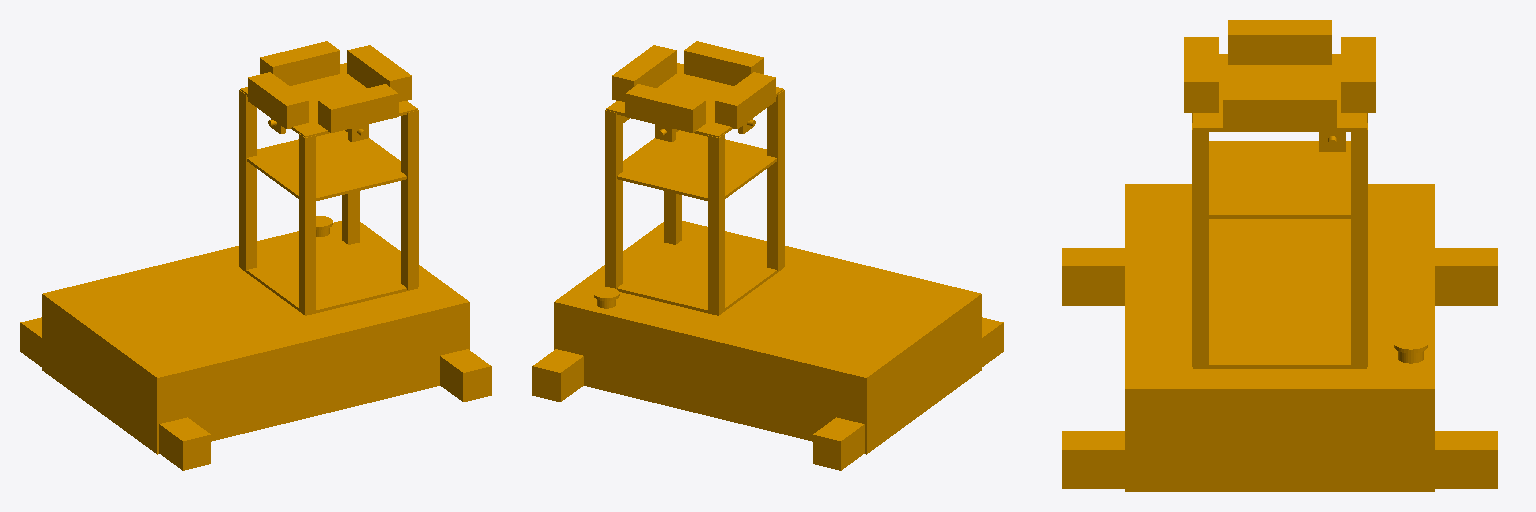
The robot description file, URDF, robot "coro_allie_sensor_config_1":
<?xml version="1.0" ?>
<robot name="coro_allie_sensor_config_1">
  <joint name="coro_allie_sensor_config_1__front_left_wheel_joint" type="revolute">
    <parent link="coro_allie_sensor_config_1__base_link"/>
    <child link="coro_allie_sensor_config_1__front_left_wheel"/>
    <origin rpy="0 0 0" xyz="0.25   0.255  0.1275"/>
    <axis xyz="0 1 0"/>
    <limit effort="53.5" lower="-1.79769e+308" upper="1.79769e+308" velocity="13.65"/>
  </joint>
  <joint name="coro_allie_sensor_config_1__rear_left_wheel_joint" type="revolute">
    <parent link="coro_allie_sensor_config_1__base_link"/>
    <child link="coro_allie_sensor_config_1__rear_left_wheel"/>
    <origin rpy="0 0 0" xyz="-0.25    0.255   0.1275"/>
    <axis xyz="0 1 0"/>
    <limit effort="53.5" lower="-1.79769e+308" upper="1.79769e+308" velocity="13.65"/>
  </joint>
  <joint name="coro_allie_sensor_config_1__rear_right_wheel_joint" type="revolute">
    <parent link="coro_allie_sensor_config_1__base_link"/>
    <child link="coro_allie_sensor_config_1__rear_right_wheel"/>
    <origin rpy="0 0 0" xyz="-0.25   -0.255   0.1275"/>
    <axis xyz="0 1 0"/>
    <limit effort="53.5" lower="-1.79769e+308" upper="1.79769e+308" velocity="13.65"/>
  </joint>
  <joint name="coro_allie_sensor_config_1__front_right_wheel_joint" type="revolute">
    <parent link="coro_allie_sensor_config_1__base_link"/>
    <child link="coro_allie_sensor_config_1__front_right_wheel"/>
    <origin rpy="0 0 0" xyz="0.25   -0.255   0.1275"/>
    <axis xyz="0 1 0"/>
    <limit effort="53.5" lower="-1.79769e+308" upper="1.79769e+308" velocity="13.65"/>
  </joint>
  <link name="coro_allie_sensor_config_1__base_link">
    <inertial>
      <mass value="9.6"/>
      <origin rpy="0 0 0" xyz="0      0      0.07249"/>
      <inertia ixx="0.0512" ixy="0" ixz="0" iyy="0.07712" iyz="0" izz="0.11808"/>
    </inertial>
    <collision name="coro_allie_sensor_config_1__chassis_collision">
      <origin rpy="0 0 0" xyz="0     0     0.1675"/>
      <geometry>
        <box size="0.555 0.355 0.13"/>
      </geometry>
    </collision>
    <visual name="coro_allie_sensor_config_1__chassis_main_visual">
      <origin rpy="0 0 0" xyz="0     0     0.1775"/>
      <geometry>
        <box size="0.555 0.355 0.13"/>
      </geometry>
    </visual>
    <visual name="coro_allie_sensor_config_1__emergency_stop_bottom_visual">
      <origin rpy="0 0 0" xyz="0.2    0.15   0.2525"/>
      <geometry>
        <cylinder length="0.015" radius="0.015"/>
      </geometry>
    </visual>
    <visual name="coro_allie_sensor_config_1__emergency_stop_top_visual">
      <origin rpy="0 0 0" xyz="0.2    0.15   0.2625"/>
      <geometry>
        <cylinder length="0.005" radius="0.02"/>
      </geometry>
    </visual>
    <visual name="coro_allie_sensor_config_1__wheel_mount_front_visual">
      <origin rpy="0 0 0" xyz="0.249  0     0.1385"/>
      <geometry>
        <box size="0.05 0.5 0.05"/>
      </geometry>
    </visual>
    <visual name="coro_allie_sensor_config_1__wheel_mount_rear_visual">
      <origin rpy="0 0 0" xyz="-0.249   0      0.1385"/>
      <geometry>
        <box size="0.05 0.5 0.05"/>
      </geometry>
    </visual>
    <visual name="coro_allie_sensor_config_1__plate1_visual">
      <origin rpy="0 0 0" xyz="0.13   0     0.5475"/>
      <geometry>
        <box size="0.2 0.2 0.005"/>
      </geometry>
    </visual>
    <visual name="coro_allie_sensor_config_1__plate2_visual">
      <origin rpy="0 0 0" xyz="0.13   0     0.4375"/>
      <geometry>
        <box size="0.2 0.2 0.005"/>
      </geometry>
    </visual>
    <visual name="coro_allie_sensor_config_1__plate3_visual">
      <origin rpy="0 0 0" xyz="0.13   0     0.2475"/>
      <geometry>
        <box size="0.2 0.2 0.005"/>
      </geometry>
    </visual>
    <visual name="coro_allie_sensor_config_1__beam1_visual">
      <origin rpy="0 0 0" xyz="0.221  0.091  0.3975"/>
      <geometry>
        <box size="0.02 0.02 0.3"/>
      </geometry>
    </visual>
    <visual name="coro_allie_sensor_config_1__beam2_visual">
      <origin rpy="0 0 0" xyz="0.221  -0.091   0.3975"/>
      <geometry>
        <box size="0.02 0.02 0.3"/>
      </geometry>
    </visual>
    <visual name="coro_allie_sensor_config_1__beam3_visual">
      <origin rpy="0 0 0" xyz="0.039  0.091  0.3975"/>
      <geometry>
        <box size="0.02 0.02 0.3"/>
      </geometry>
    </visual>
    <visual name="coro_allie_sensor_config_1__beam4_visual">
      <origin rpy="0 0 0" xyz="0.039  -0.091   0.3975"/>
      <geometry>
        <box size="0.02 0.02 0.3"/>
      </geometry>
    </visual>
    <visual name="coro_allie_sensor_config_1__d435i_realsense_camera_visual">
      <origin rpy="0      0.52359 0" xyz="0.19    0      0.52049"/>
      <geometry>
        <mesh filename="package://coro_allie_sensor_config_1/meshes/realsense_d435.dae" scale="0.001 0.001 0.001"/>
      </geometry>
    </visual>
    <visual name="coro_allie_sensor_config_1__vlp16_visual1">
      <origin rpy="0 0 0" xyz="0.13   0     0.4395"/>
      <geometry>
        <mesh filename="package://coro_allie_sensor_config_1/meshes/VLP16_base_1.dae" scale="1 1 1"/>
      </geometry>
    </visual>
    <visual name="coro_allie_sensor_config_1__vlp_visual2">
      <origin rpy="0 0 0" xyz="0.13   0     0.4395"/>
      <geometry>
        <mesh filename="package://coro_allie_sensor_config_1/meshes/VLP16_base_2.dae" scale="1 1 1"/>
      </geometry>
    </visual>
    <visual name="coro_allie_sensor_config_1__vlp_visual3">
      <origin rpy="0 0 0" xyz="0.13   0     0.4395"/>
      <geometry>
        <mesh filename="package://coro_allie_sensor_config_1/meshes/VLP16_scan.dae" scale="1 1 1"/>
      </geometry>
    </visual>
    <visual name="coro_allie_sensor_config_1__camera_front_visual">
      <origin rpy="0 0 0" xyz="0.22   0.06   0.5325"/>
      <geometry>
        <box size="0.01 0.03 0.03"/>
      </geometry>
    </visual>
    <visual name="coro_allie_sensor_config_1__camera_lens_front_visual">
      <origin rpy="0      1.57079 0" xyz="0.23   0.06   0.5325"/>
      <geometry>
        <cylinder length="0.011" radius="0.005"/>
      </geometry>
    </visual>
    <visual name="coro_allie_sensor_config_1__camera_rear_visual">
      <origin rpy="0 0 0" xyz="0.04   0     0.5325"/>
      <geometry>
        <box size="0.01 0.03 0.03"/>
      </geometry>
    </visual>
    <visual name="coro_allie_sensor_config_1__camera_lens_rear_visual">
      <origin rpy="0      1.57079 0" xyz="0.03   0     0.5325"/>
      <geometry>
        <cylinder length="0.011" radius="0.005"/>
      </geometry>
    </visual>
    <visual name="coro_allie_sensor_config_1__camera_left_visual">
      <origin rpy="0 0 0" xyz="0.13   0.09   0.5325"/>
      <geometry>
        <box size="0.03 0.01 0.03"/>
      </geometry>
    </visual>
    <visual name="coro_allie_sensor_config_1__camera_lens_left_visual">
      <origin rpy="1.57079 0      0" xyz="0.13   0.1    0.5325"/>
      <geometry>
        <cylinder length="0.011" radius="0.005"/>
      </geometry>
    </visual>
    <visual name="coro_allie_sensor_config_1__camera_right_visual">
      <origin rpy="0 0 0" xyz="0.13   -0.09    0.5325"/>
      <geometry>
        <box size="0.03 0.01 0.03"/>
      </geometry>
    </visual>
    <visual name="coro_allie_sensor_config_1__camera_lens_right_visual">
      <origin rpy="1.57079 0      0" xyz="0.13   -0.1     0.5325"/>
      <geometry>
        <cylinder length="0.011" radius="0.005"/>
      </geometry>
    </visual>
    <visual name="coro_allie_sensor_config_1__light_front_visual">
      <origin rpy="0 0 0" xyz="0.22   0     0.5695"/>
      <geometry>
        <box size="0.04 0.13 0.04"/>
      </geometry>
    </visual>
    <visual name="coro_allie_sensor_config_1__light_rear_visual">
      <origin rpy="0 0 0" xyz="0.04   0     0.5675"/>
      <geometry>
        <box size="0.04 0.12 0.04"/>
      </geometry>
    </visual>
    <visual name="coro_allie_sensor_config_1__light_left_visual">
      <origin rpy="0 0 0" xyz="0.13   0.09   0.5695"/>
      <geometry>
        <box size="0.12 0.04 0.04"/>
      </geometry>
    </visual>
    <visual name="coro_allie_sensor_config_1__light_right_visual">
      <origin rpy="0 0 0" xyz="0.13   -0.09    0.5695"/>
      <geometry>
        <box size="0.12 0.04 0.04"/>
      </geometry>
    </visual>
  </link>
  <link name="coro_allie_sensor_config_1__front_left_wheel">
    <inertial>
      <mass value="5.0"/>
      <origin rpy="0 0 0" xyz="0 0 0"/>
      <inertia ixx="0.0153" ixy="0" ixz="0" iyy="0.025" iyz="0" izz="0.0153"/>
    </inertial>
    <collision name="coro_allie_sensor_config_1__front_left_wheel_collision">
      <origin rpy="-1.57079  0       0" xyz="0 0 0"/>
      <geometry>
        <cylinder length="0.11" radius="0.205"/>
      </geometry>
    </collision>
    <visual name="coro_allie_sensor_config_1__front_left_wheel_tire_visual">
      <origin rpy="0 0 0" xyz="0 0 0"/>
      <geometry>
        <mesh filename="package://coro_allie_sensor_config_1/meshes/wheel.dae" scale="1.18 1.0 1.18"/>
      </geometry>
    </visual>
  </link>
  <link name="coro_allie_sensor_config_1__front_right_wheel">
    <inertial>
      <mass value="5.0"/>
      <origin rpy="0 0 0" xyz="0 0 0"/>
      <inertia ixx="0.0153" ixy="0" ixz="0" iyy="0.025" iyz="0" izz="0.0153"/>
    </inertial>
    <collision name="coro_allie_sensor_config_1__front_right_wheel_collision">
      <origin rpy="1.57079 0      0" xyz="0 0 0"/>
      <geometry>
        <cylinder length="0.11" radius="0.205"/>
      </geometry>
    </collision>
    <visual name="coro_allie_sensor_config_1__front_right_wheel_tire_visual">
      <origin rpy="0 0 0" xyz="0 0 0"/>
      <geometry>
        <mesh filename="package://coro_allie_sensor_config_1/meshes/wheel.dae" scale="1.18 1.0 1.18"/>
      </geometry>
    </visual>
  </link>
  <link name="coro_allie_sensor_config_1__rear_left_wheel">
    <inertial>
      <mass value="5.0"/>
      <origin rpy="0 0 0" xyz="0 0 0"/>
      <inertia ixx="0.0153" ixy="0" ixz="0" iyy="0.025" iyz="0" izz="0.0153"/>
    </inertial>
    <collision name="coro_allie_sensor_config_1__rear_left_wheel_collision">
      <origin rpy="-1.57079  0       0" xyz="0 0 0"/>
      <geometry>
        <cylinder length="0.11" radius="0.205"/>
      </geometry>
    </collision>
    <visual name="coro_allie_sensor_config_1__rear_left_wheel_tire_visual">
      <origin rpy="0 0 0" xyz="0 0 0"/>
      <geometry>
        <mesh filename="package://coro_allie_sensor_config_1/meshes/wheel.dae" scale="1.18 1.0 1.18"/>
      </geometry>
    </visual>
  </link>
  <link name="coro_allie_sensor_config_1__rear_right_wheel">
    <inertial>
      <mass value="5.0"/>
      <origin rpy="0 0 0" xyz="0 0 0"/>
      <inertia ixx="0.0153" ixy="0" ixz="0" iyy="0.025" iyz="0" izz="0.0153"/>
    </inertial>
    <collision name="coro_allie_sensor_config_1__rear_right_wheel_collision">
      <origin rpy="1.57079 0      0" xyz="0 0 0"/>
      <geometry>
        <cylinder length="0.11" radius="0.205"/>
      </geometry>
    </collision>
    <visual name="coro_allie_sensor_config_1__rear_right_wheel_tire_visual">
      <origin rpy="0 0 0" xyz="0 0 0"/>
      <geometry>
        <mesh filename="package://coro_allie_sensor_config_1/meshes/wheel.dae" scale="1.18 1.0 1.18"/>
      </geometry>
    </visual>
  </link>
</robot>

--- Facts derived from the render (not from the file) ---
Views: 3 orthographic renders of the robot side by side, from view 1: azimuth 30°, elevation 25°; view 2: azimuth 150°, elevation 25°; view 3: azimuth 270°, elevation 25°.
Robot: coro_allie_sensor_config_1 — 5 links, 4 joints (4 revolute); root link coro_allie_sensor_config_1__base_link; default pose: all joints at 0.
Links seen in each view (by area): view 1: coro_allie_sensor_config_1__base_link; view 2: coro_allie_sensor_config_1__base_link; view 3: coro_allie_sensor_config_1__base_link.
Boxes of the visible links, <box> form: coro_allie_sensor_config_1__base_link: <box>20,41,491,470</box>; coro_allie_sensor_config_1__base_link: <box>532,41,1003,470</box>; coro_allie_sensor_config_1__base_link: <box>1062,20,1497,491</box>.
Size in the robot's own frame: 0.555 by 0.5 by 0.477 metres.
0 mesh visuals loaded from 5 distinct referenced files (none loaded); not drawn: 8 (reference not matched to a file when rendering).
